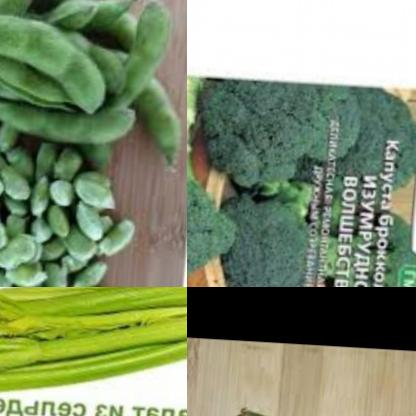beans: (0, 0, 187, 150), (0, 132, 137, 287), (187, 381, 416, 416)
broccoli: (221, 57, 365, 181), (295, 77, 416, 220), (212, 189, 334, 287), (187, 123, 251, 287), (315, 207, 416, 287)
celery: (0, 287, 187, 407)
